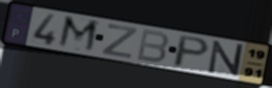4: (31, 12, 58, 47)
B: (135, 28, 171, 65)
M: (55, 14, 101, 55)
N: (207, 40, 245, 78)
P: (171, 35, 212, 69)
Z: (99, 22, 139, 60)
